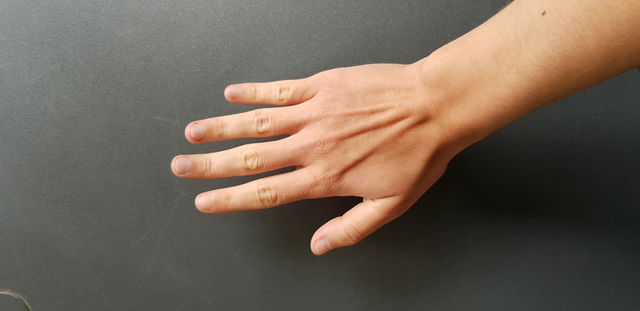Paper: (134, 57, 475, 256)
